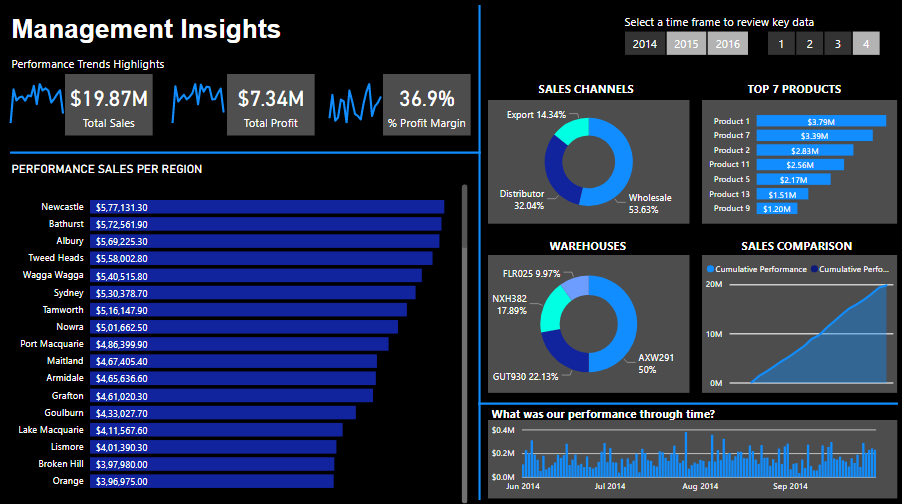

The dashboard page shown, as its layout file describes it:
{"tool":"powerbi","page":{"name":"Page 1","canvas":[1280,720],"ordinal":0},"visuals":[{"type":"slicer","fields":{"Values":["Date.QuarterOfYear"]},"box":[1062.9,42.7,206.3,42.7],"z":0},{"type":"slicer","fields":{"Values":["Date.Year"]},"box":[859.4,42.7,222,42.7],"z":1000},{"type":"lineChart","fields":{"Y":["Key Measures.Total Profit"],"Category":["Date.Week Number"]},"box":[229.1,108.1,102.5,75.4],"z":2000},{"type":"card","fields":{"Values":["Key Measures.Total Profit"]},"box":[321.6,108.1,123.8,86.8],"z":3000},{"type":"card","fields":{"Values":["Key Measures.Total Sales"]},"box":[92.5,108.1,123.8,86.8],"z":4000},{"type":"lineChart","fields":{"Category":["Date.Week Number"],"Y":["Key Measures.Total Sales"]},"box":[0,108.1,103.9,75.4],"z":5000},{"type":"card","fields":{"Values":["Key Measures.% Profit Margin"]},"box":[542.1,108.1,123.8,86.8],"z":6000},{"type":"lineChart","fields":{"Y":["Key Measures.% Profit Margin"],"Category":["Date.Week Number"]},"box":[451.1,108.1,102.5,75.4],"z":7000},{"type":"areaChart","title":"SALES COMPARISON","fields":{"Y":["Cumulative Measures.Cumulative Performance","Cumulative Measures.Cumulative Performance LY"],"Category":["Date.Week Number"]},"box":[993.2,362.8,276,194.9],"z":8000},{"type":"barChart","title":"PERFORMANCE SALES PER REGION","fields":{"Y":["Key Measures.Total Sales"],"Category":["Regions.City"]},"box":[11.3,232,654.9,488],"z":9000},{"type":"clusteredColumnChart","fields":{"Y":["Key Measures.Total Sales"],"Category":["Sales.OrderDate"]},"box":[690.1,597.6,579.1,111],"z":10000},{"type":"donutChart","title":"WAREHOUSES","fields":{"Category":["Sales.Warehouse Code"],"Y":["Key Measures.Total Sales"]},"box":[690.1,362.8,284.6,194.9],"z":11000},{"type":"barChart","title":"TOP 7 PRODUCTS","fields":{"Y":["Key Measures.Total Sales"],"Category":["Product Data.Product Name"]},"box":[993.2,143.7,276,175],"z":12000},{"type":"donutChart","title":"SALES CHANNELS","fields":{"Category":["Sales.Channel"],"Y":["Key Measures.Total Sales"]},"box":[690.1,143.7,284.6,175],"z":13000},{"type":"textbox","box":[11.4,76.8,300.2,44.1],"z":14000},{"type":"textbox","box":[877.9,17.1,350,37],"z":15000},{"type":"textbox","box":[757,112.4,153.7,35.6],"z":16000},{"type":"textbox","box":[1053,112.4,155.1,32.7],"z":17000},{"type":"textbox","box":[772.6,334.4,129.5,38.4],"z":18000},{"type":"textbox","box":[1044.4,334.4,177.9,38.4],"z":19000},{"type":"textbox","box":[690.1,572,345.8,31.3],"z":20000},{"type":"textbox","box":[11.3,17,415.9,59.4],"z":21000},{"type":"basicShape","box":[656.3,0,43.9,720],"z":22000},{"type":"basicShape","box":[4.2,195.2,686.1,46.7],"z":23000},{"type":"basicShape","box":[666.2,550.3,613.9,46.7],"z":24000}]}

Visuals, with their boxes in screenshot pixels (x1, y1, x2, y2), scaled from the page's 1280x720 canvas onto the 902x504 screenshot:
slicer - Date.QuarterOfYear: <region>749, 30, 894, 60</region>
slicer - Date.Year: <region>606, 30, 762, 60</region>
lineChart - Key Measures.Total Profit x Date.Week Number: <region>161, 76, 234, 128</region>
card - Key Measures.Total Profit: <region>227, 76, 314, 136</region>
card - Key Measures.Total Sales: <region>65, 76, 152, 136</region>
lineChart - Date.Week Number x Key Measures.Total Sales: <region>0, 76, 73, 128</region>
card - Key Measures.% Profit Margin: <region>382, 76, 469, 136</region>
lineChart - Key Measures.% Profit Margin x Date.Week Number: <region>318, 76, 390, 128</region>
"SALES COMPARISON" areaChart: <region>700, 254, 894, 390</region>
"PERFORMANCE SALES PER REGION" barChart: <region>8, 162, 469, 503</region>
clusteredColumnChart - Key Measures.Total Sales x Sales.OrderDate: <region>486, 418, 894, 496</region>
"WAREHOUSES" donutChart: <region>486, 254, 687, 390</region>
"TOP 7 PRODUCTS" barChart: <region>700, 101, 894, 223</region>
"SALES CHANNELS" donutChart: <region>486, 101, 687, 223</region>
textbox: <region>8, 54, 220, 85</region>
textbox: <region>619, 12, 865, 38</region>
textbox: <region>533, 79, 642, 104</region>
textbox: <region>742, 79, 851, 102</region>
textbox: <region>544, 234, 636, 261</region>
textbox: <region>736, 234, 861, 261</region>
textbox: <region>486, 400, 730, 422</region>
textbox: <region>8, 12, 301, 53</region>
basicShape: <region>462, 0, 493, 503</region>
basicShape: <region>3, 137, 486, 169</region>
basicShape: <region>469, 385, 901, 418</region>
